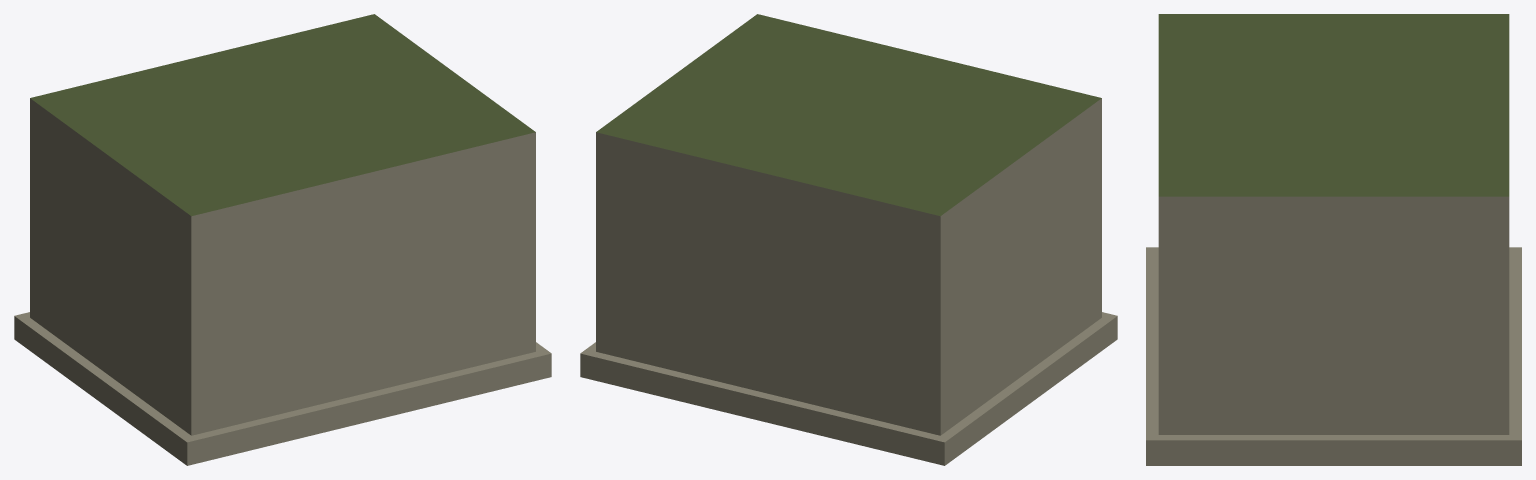
File: ruin-arcade-c.tone-v1.lod2.glb
The picture shows the model from 3 angles, left to right: view 1: azimuth 30°, elevation 25°; view 2: azimuth 150°, elevation 25°; view 3: azimuth 270°, elevation 25°; orthographic projection. The views are drawn at different scales.
Visible parts, largest first — view 1: ruin-arcade-c; view 2: ruin-arcade-c; view 3: ruin-arcade-c.
Part boxes in pixels (x1,y1,x2,y2): ruin-arcade-c: (14,14,551,465); ruin-arcade-c: (580,14,1117,465); ruin-arcade-c: (1146,14,1521,465).
Size of the model in its own units: 14.6 by 9.3 by 12.
